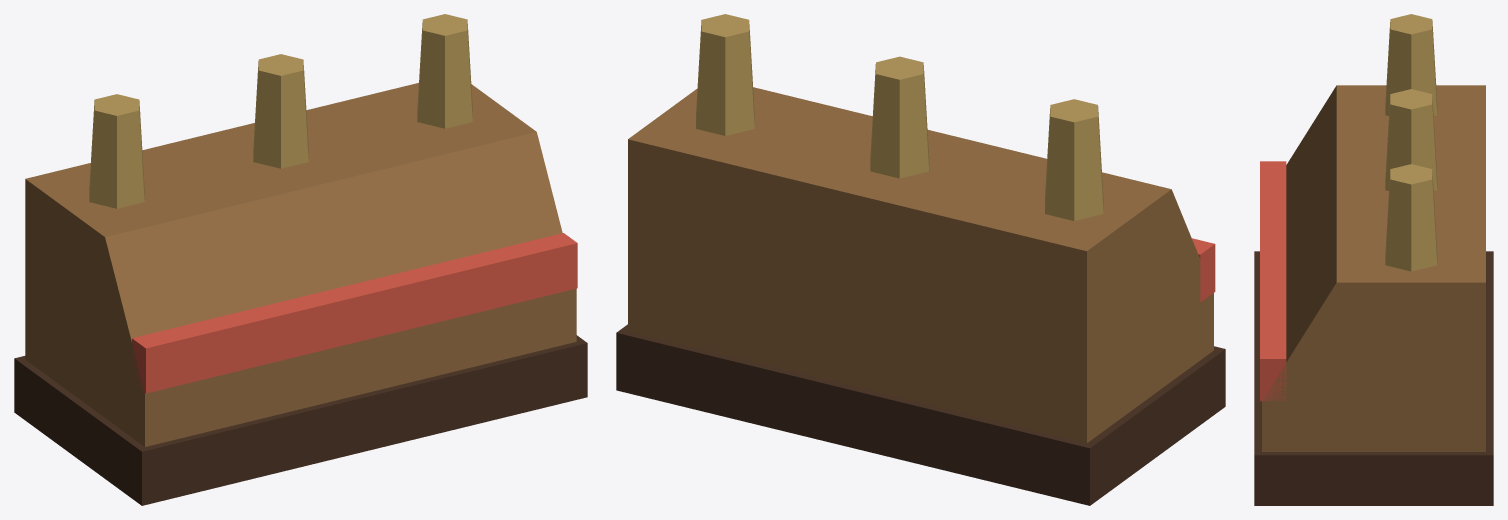
File: barrierA.glb
The picture shows the model from 3 angles, left to right: view 1: azimuth 30°, elevation 25°; view 2: azimuth 150°, elevation 25°; view 3: azimuth 270°, elevation 25°; orthographic projection. The views are drawn at different scales.
Visible parts, largest first — view 1: palmCove-barrierA; view 2: palmCove-barrierA; view 3: palmCove-barrierA.
Boxes of the visible parts, box(x1,y1,x2,y2) form: palmCove-barrierA: box(14, 14, 587, 505); palmCove-barrierA: box(616, 14, 1225, 505); palmCove-barrierA: box(1254, 14, 1493, 505).
Bounding box in the file's own units: 0.258 × 0.18 × 0.128.
